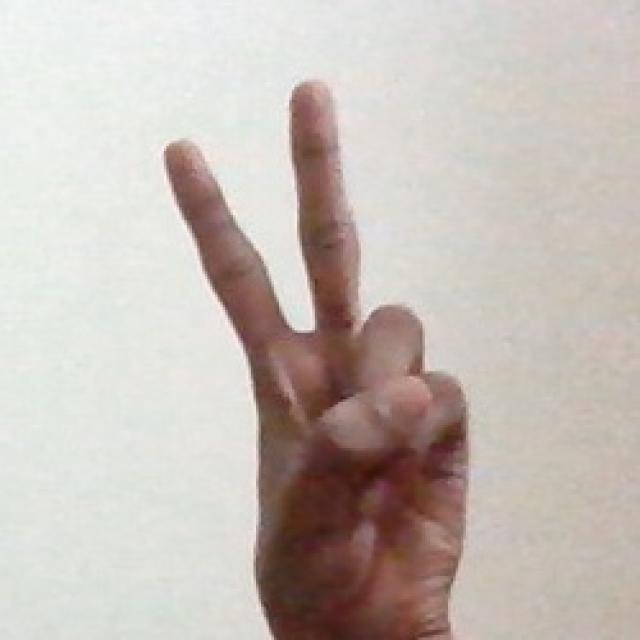Numeric-2: (160, 73, 470, 616)
